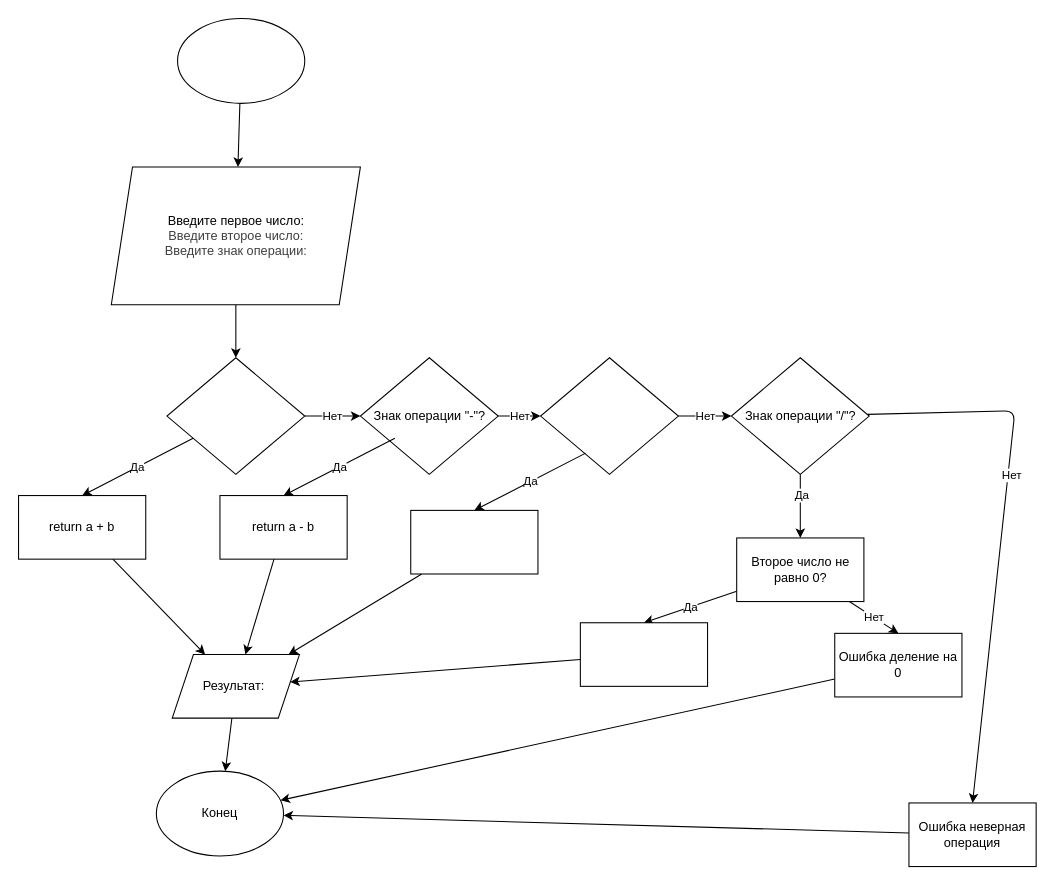
Image size: 1055x885. Some labels were removed from this diagram. The shapes that lost their labels are listed below. From the top down, each one's centre as x and y in pixels, then its label:
point (240, 60): Начало
point (235, 415): Знак операции "+"?
point (609, 415): Знак операции "*"?
point (474, 541): return a * b
point (643, 654): return a / b
